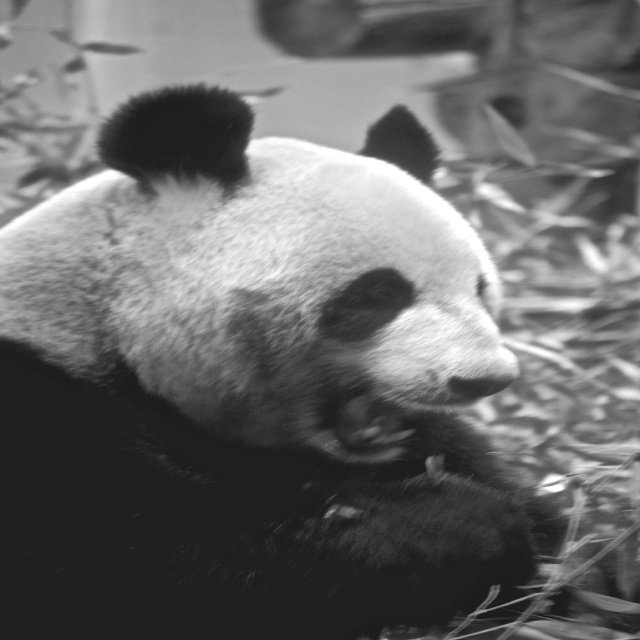Panda: (0, 79, 575, 640)
